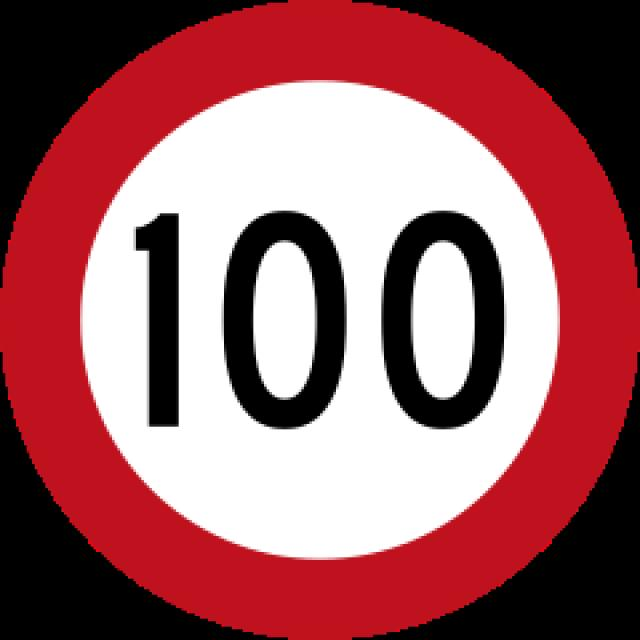Speed Limit -100-: (120, 198, 518, 448)
